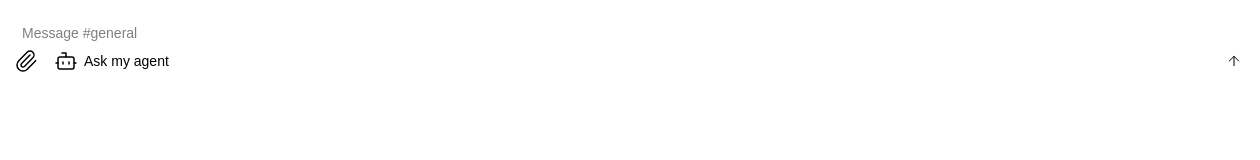
Scenario: the composer’s suggestion list › moves with the arrow keys and accepts the row it is on
The image size is (1260, 160).
Type "/" into the text box labelled "Message #general" at (632, 33), box [22,17,1242,49]
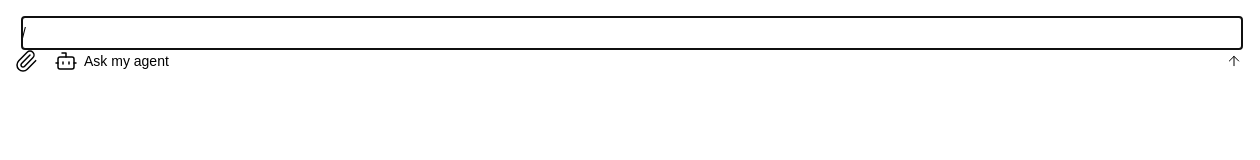
Press Arrowdown
Press Arrowdown
Press Arrowup Enter
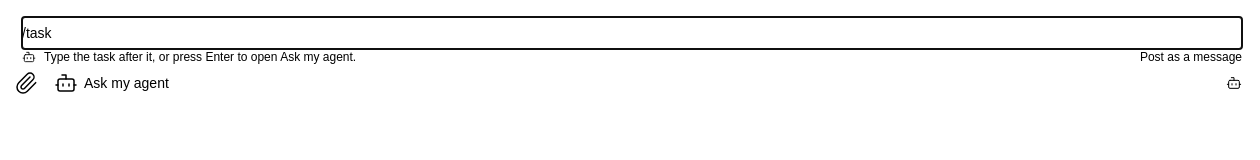
Now the text box named "Message #general" holds "/task ", box [22,17,1242,49]
